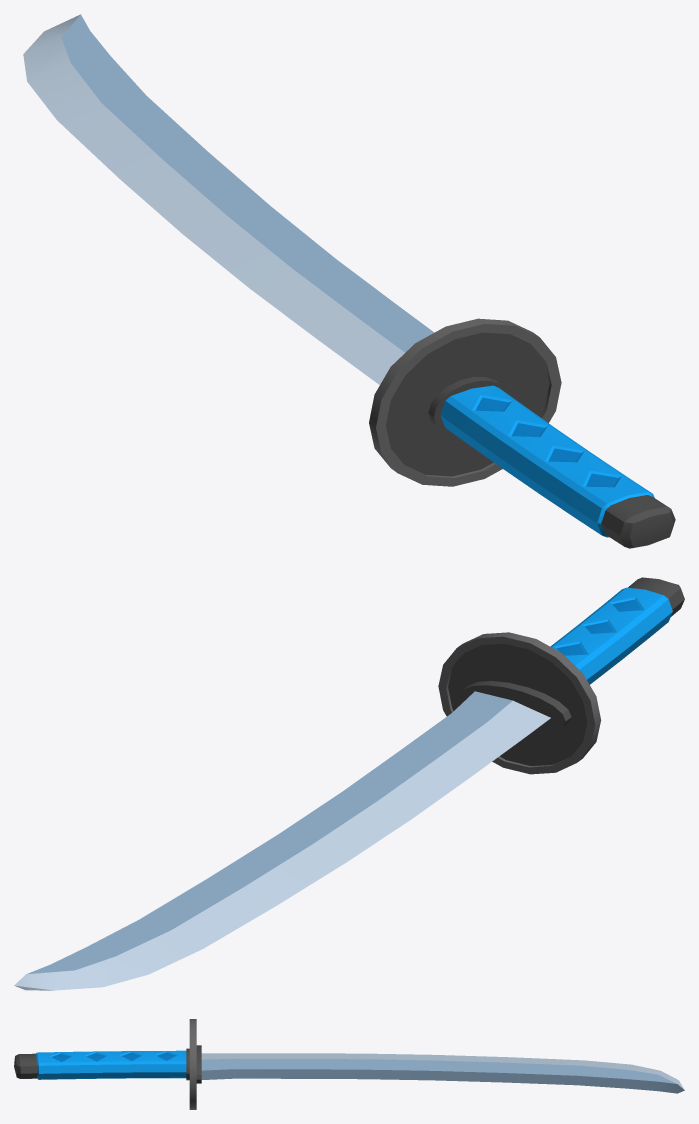
The model's file is Katana.fbx.
3 views of the same model, one above another, from view 1: azimuth 30°, elevation 25°; view 2: azimuth 150°, elevation 25°; view 3: azimuth 270°, elevation 25° (orthographic). The views are drawn at different scales.
Parts seen in each view (by area): view 1: Katana; view 2: Katana; view 3: Katana.
Boxes of the visible parts, x1=… form: Katana: x1=23, y1=14, x2=675, y2=548; Katana: x1=14, y1=577, x2=684, y2=990; Katana: x1=14, y1=1019, x2=684, y2=1109.
Size of the model in its own units: 0.9922 by 0.737 by 5.78.
